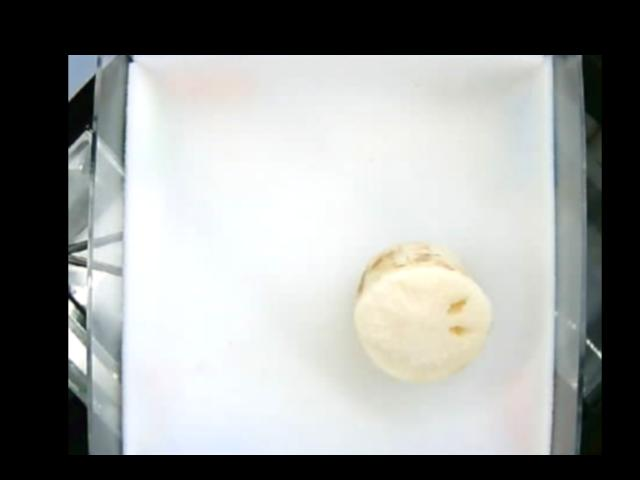Mooli: (354, 242, 494, 384)
